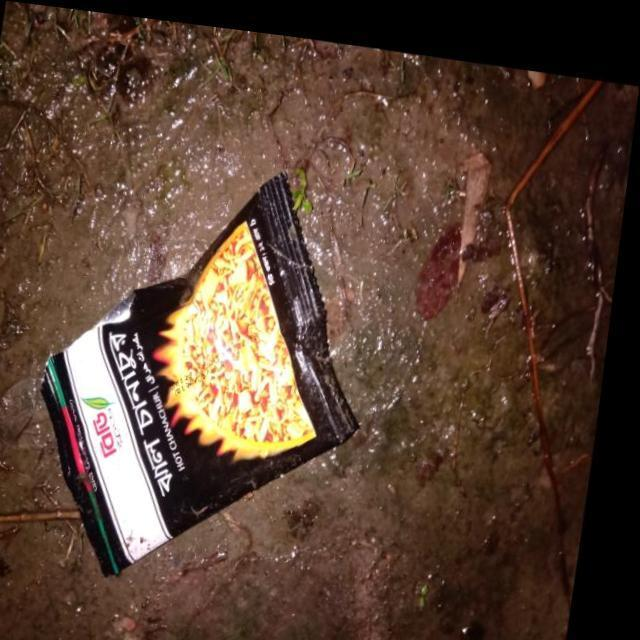packet: (74, 176, 334, 563)
